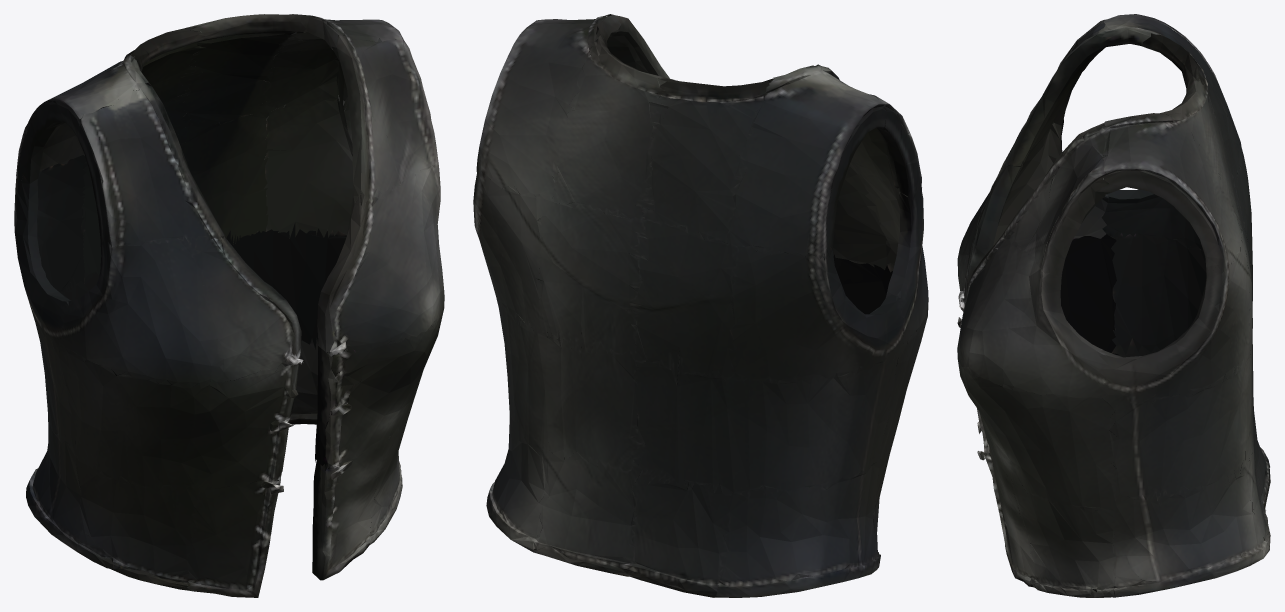
The model's file is vest.fbx.
3 views of the same model, side by side, from view 1: azimuth 30°, elevation 25°; view 2: azimuth 150°, elevation 25°; view 3: azimuth 270°, elevation 25° (orthographic). The views are drawn at different scales.
Visible parts, largest first — view 1: Vest; view 2: Vest; view 3: Vest.
Boxes of the visible parts, <box> form: Vest: <box>14,14,444,597</box>; Vest: <box>473,14,928,597</box>; Vest: <box>957,14,1270,597</box>.
Bounding box in the file's own units: 0.3586 × 0.4676 × 0.2734.
